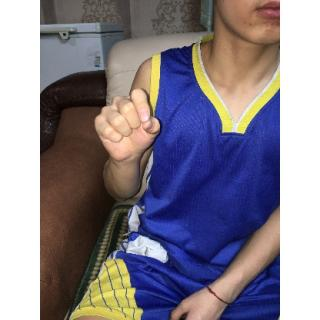FAA: (90, 84, 165, 168)
